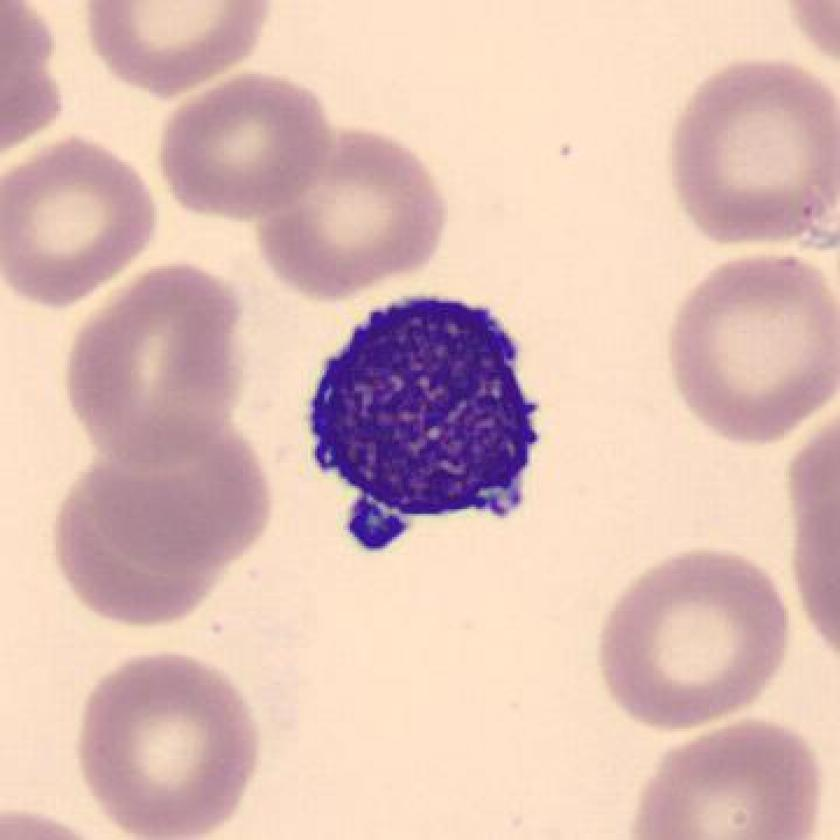lymphocyte: (291, 276, 564, 566)
